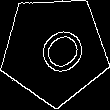O_SW: (22, 17, 87, 82)
